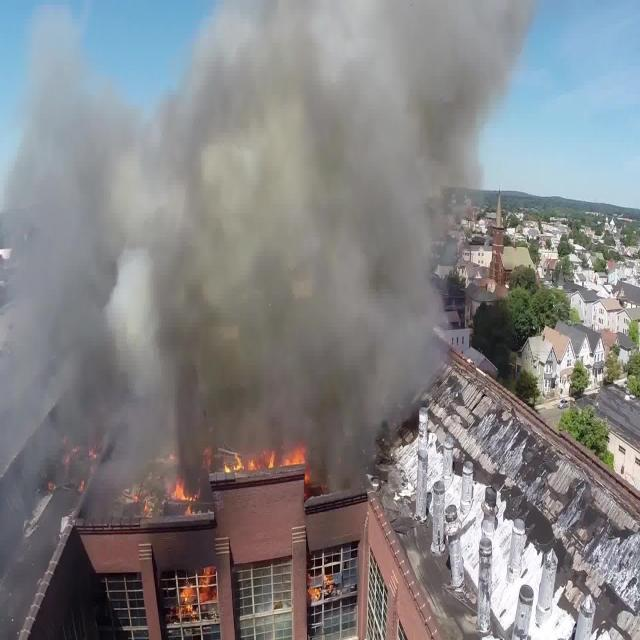Fire: (54, 408, 352, 622)
Smoke: (24, 3, 526, 576)
